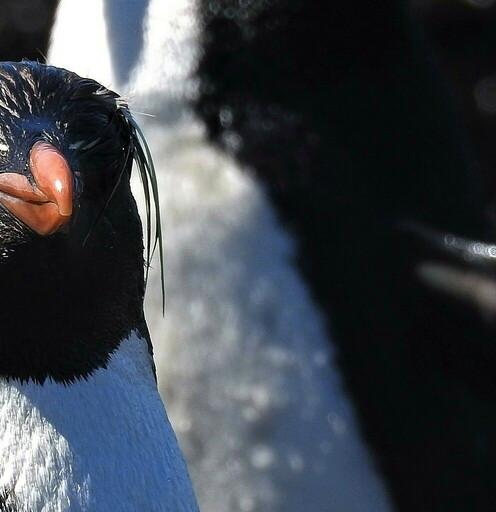Southern Rockhopper Penguin: (0, 30, 268, 512)
